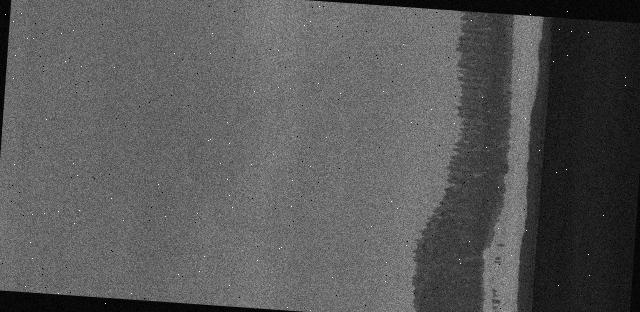oil_spot: (384, 5, 519, 312)
